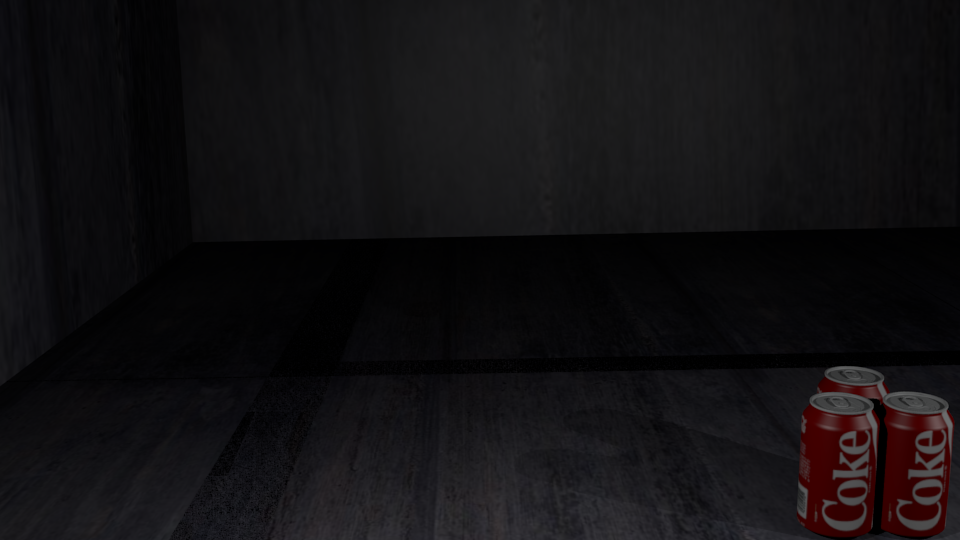cola_can: (800, 392, 879, 533), (874, 392, 953, 531), (820, 366, 889, 498)
